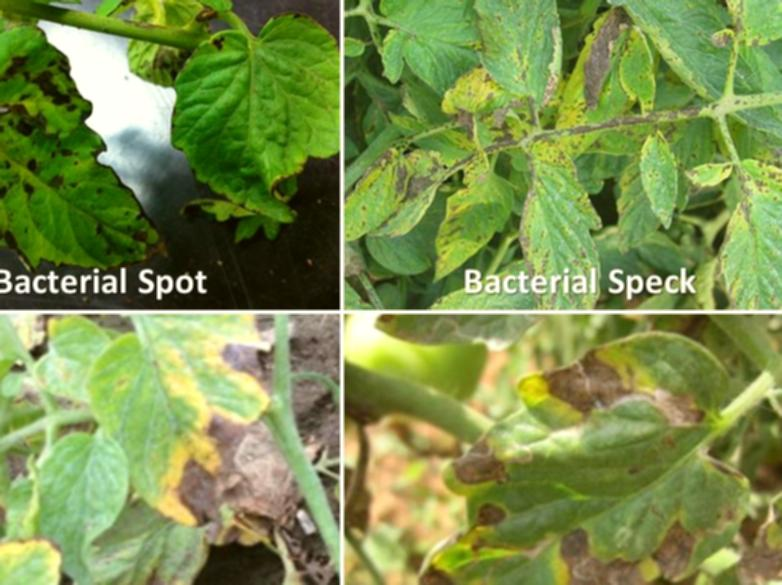Tomato Early blight leaf: (0, 325, 286, 585)
Tomato leaf bacterial spot: (143, 21, 338, 252), (0, 23, 162, 291), (593, 0, 782, 147), (502, 117, 609, 305), (678, 149, 782, 302), (459, 0, 573, 123), (627, 110, 698, 227), (612, 17, 663, 108)
